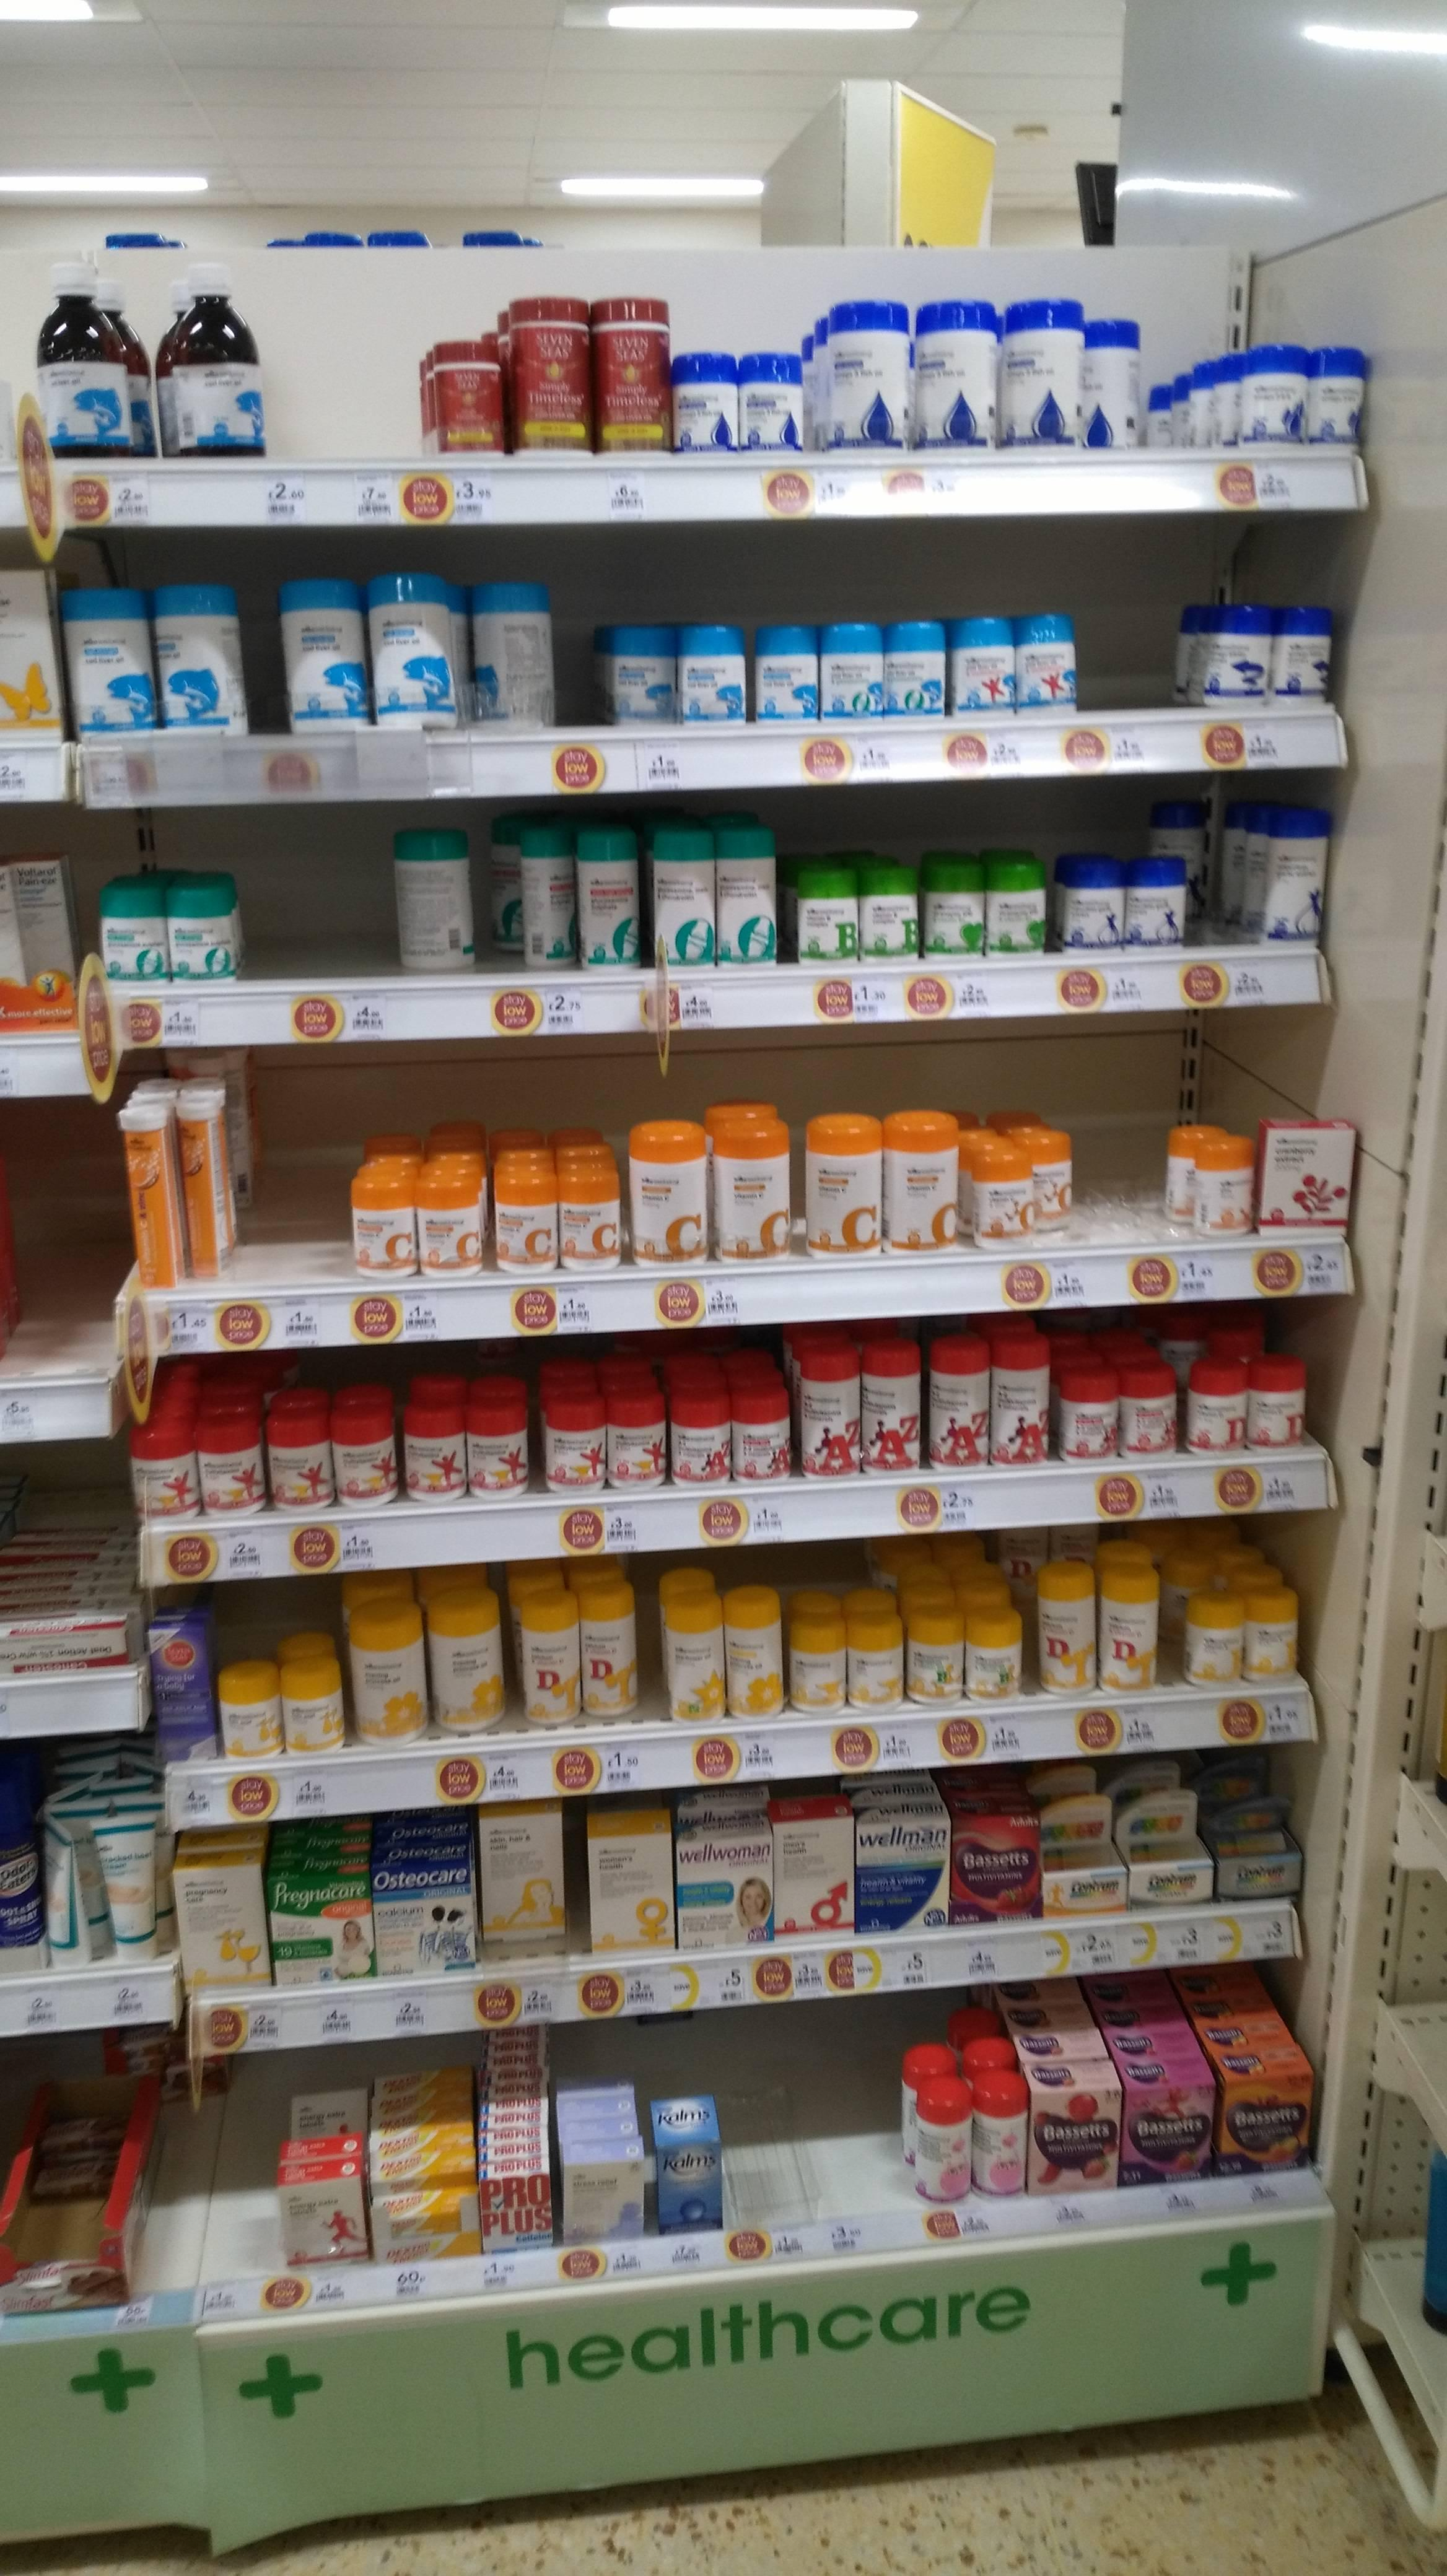empty: (738, 2040, 907, 2213), (147, 2111, 288, 2286), (267, 326, 417, 464), (239, 855, 396, 973), (234, 1125, 352, 1272), (0, 1217, 119, 1364), (1079, 587, 1194, 718), (1077, 1102, 1168, 1233)
